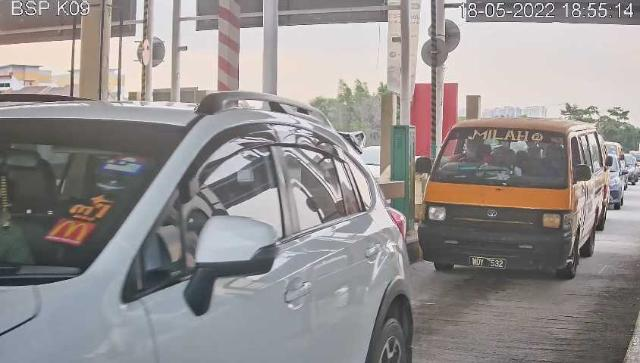License_Plate: (470, 256, 509, 272)
van: (419, 121, 606, 282)
